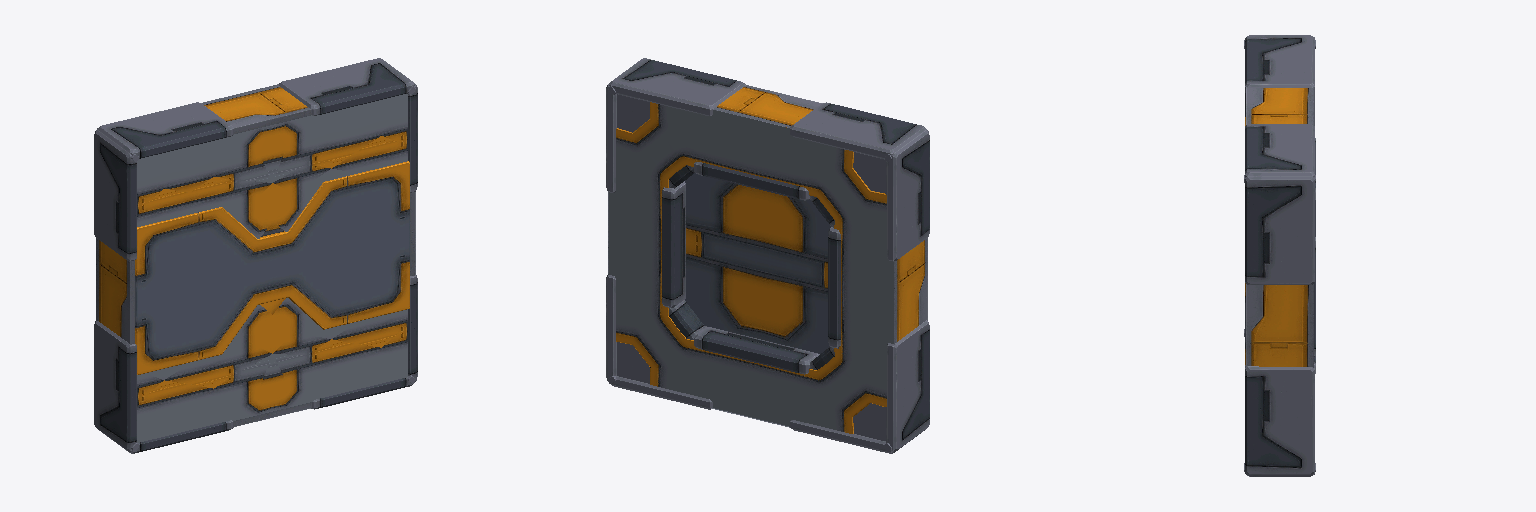
The picture shows the model from 3 angles: view 1: azimuth 30°, elevation 25°; view 2: azimuth 150°, elevation 25°; view 3: azimuth 270°, elevation 25°; orthographic projection.
Visible parts, largest first — view 1: Object.4, Object.3, Object.1, Object.2; view 2: Object.4, Object.1, Object.3, Object.2; view 3: Object.1, Object.2.
Boxes of the visible parts, x1=… form: Object.4: x1=137, y1=94, x2=407, y2=442; Object.3: x1=135, y1=161, x2=409, y2=374; Object.1: x1=94, y1=58, x2=417, y2=453; Object.2: x1=96, y1=84, x2=415, y2=426; Object.4: x1=609, y1=102, x2=893, y2=433; Object.1: x1=606, y1=58, x2=929, y2=453; Object.3: x1=685, y1=173, x2=830, y2=353; Object.2: x1=608, y1=85, x2=927, y2=427; Object.1: x1=1244, y1=35, x2=1315, y2=476; Object.2: x1=1246, y1=87, x2=1313, y2=367.
Size of the model in its own units: 0.512 by 0.5122 by 0.1107.
Materials: 4 (4 with a texture image).